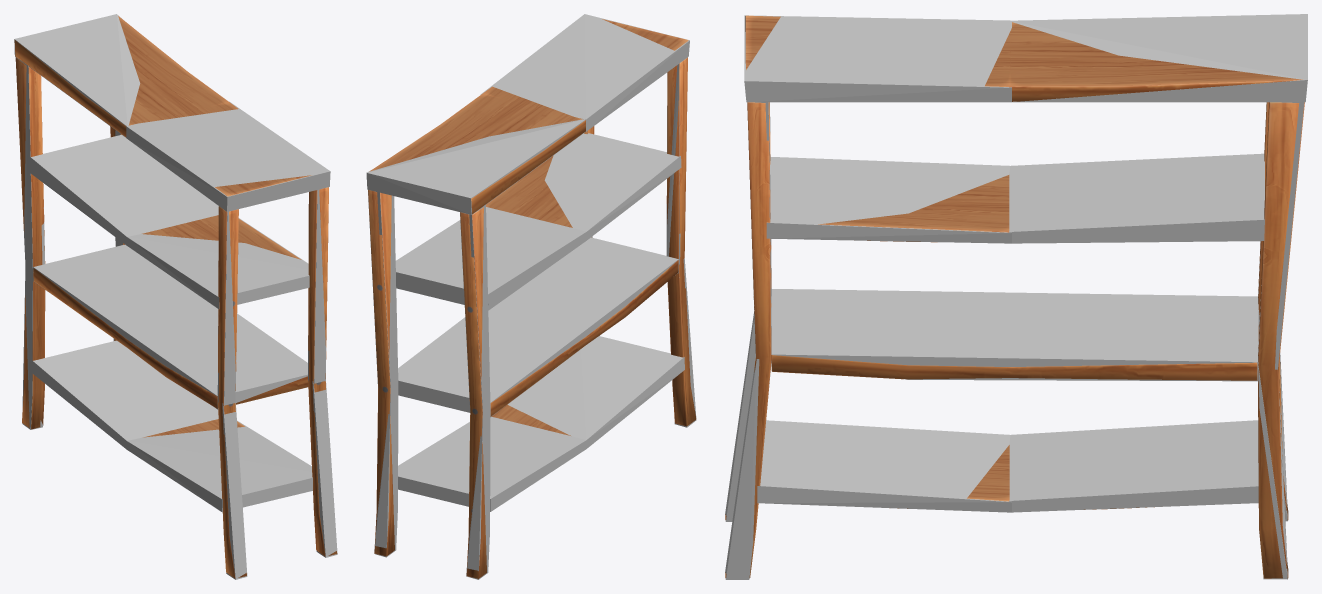
File: SM_BarrelStands01_2.fbx
3 views of the same model, side by side, from view 1: azimuth 30°, elevation 25°; view 2: azimuth 150°, elevation 25°; view 3: azimuth 270°, elevation 25° (orthographic). The views are drawn at different scales.
Parts seen in each view (by area): view 1: SM_BarrelStands01_2_ConvexHulls, SM_BarrelStands01_2; view 2: SM_BarrelStands01_2_ConvexHulls, SM_BarrelStands01_2; view 3: SM_BarrelStands01_2_ConvexHulls, SM_BarrelStands01_2.
Boxes of the visible parts, <box> form: SM_BarrelStands01_2_ConvexHulls: <box>14,14,337,579</box>; SM_BarrelStands01_2: <box>14,16,337,578</box>; SM_BarrelStands01_2_ConvexHulls: <box>366,14,696,579</box>; SM_BarrelStands01_2: <box>368,19,696,578</box>; SM_BarrelStands01_2_ConvexHulls: <box>725,14,1307,579</box>; SM_BarrelStands01_2: <box>725,15,1304,578</box>.
Bounding box in the file's own units: 86.39 × 318 × 302.
2 materials, 1 textured.
